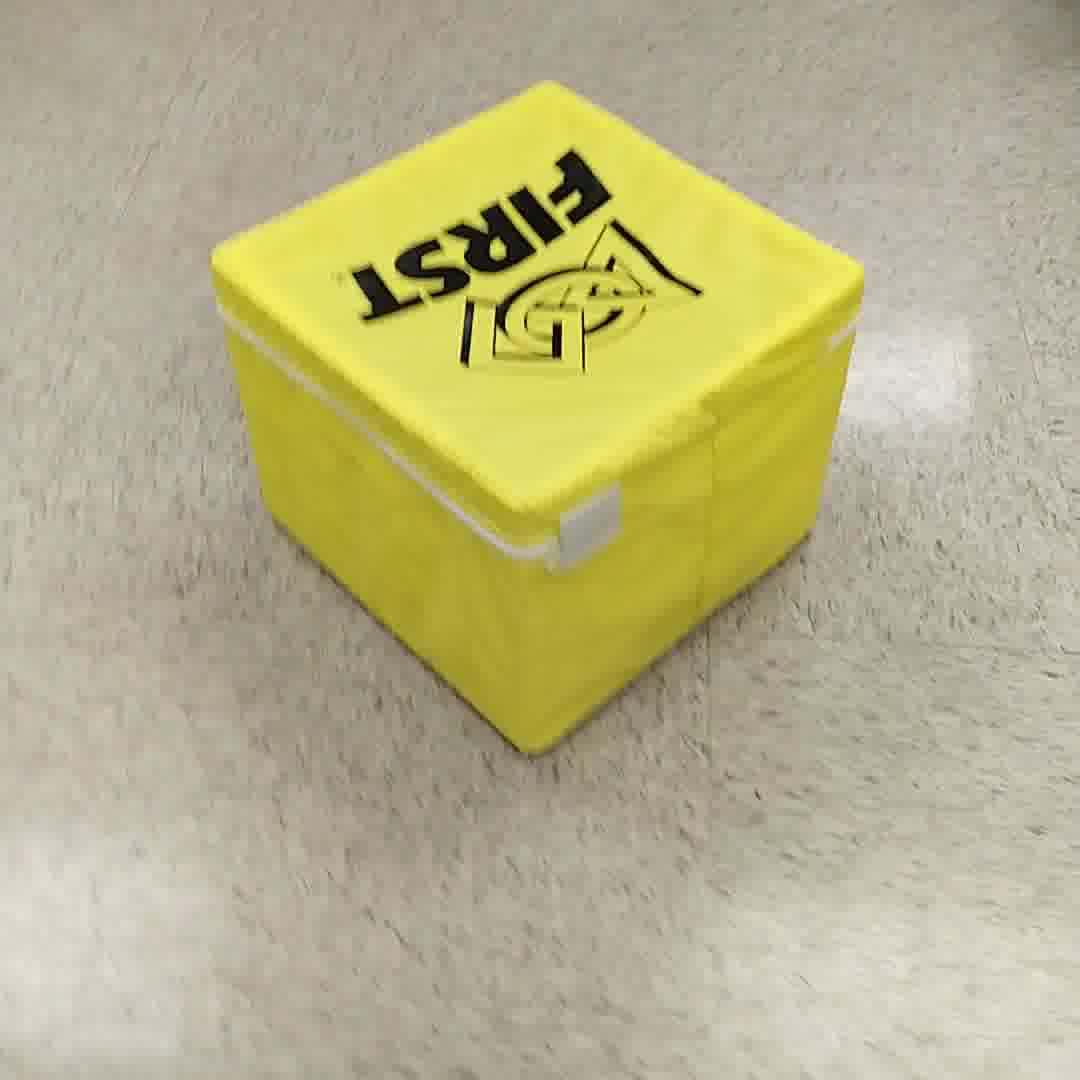box: (203, 84, 876, 760)
